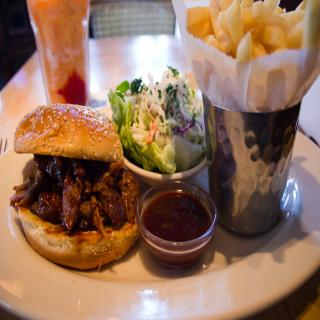French fries: (192, 4, 305, 60)
